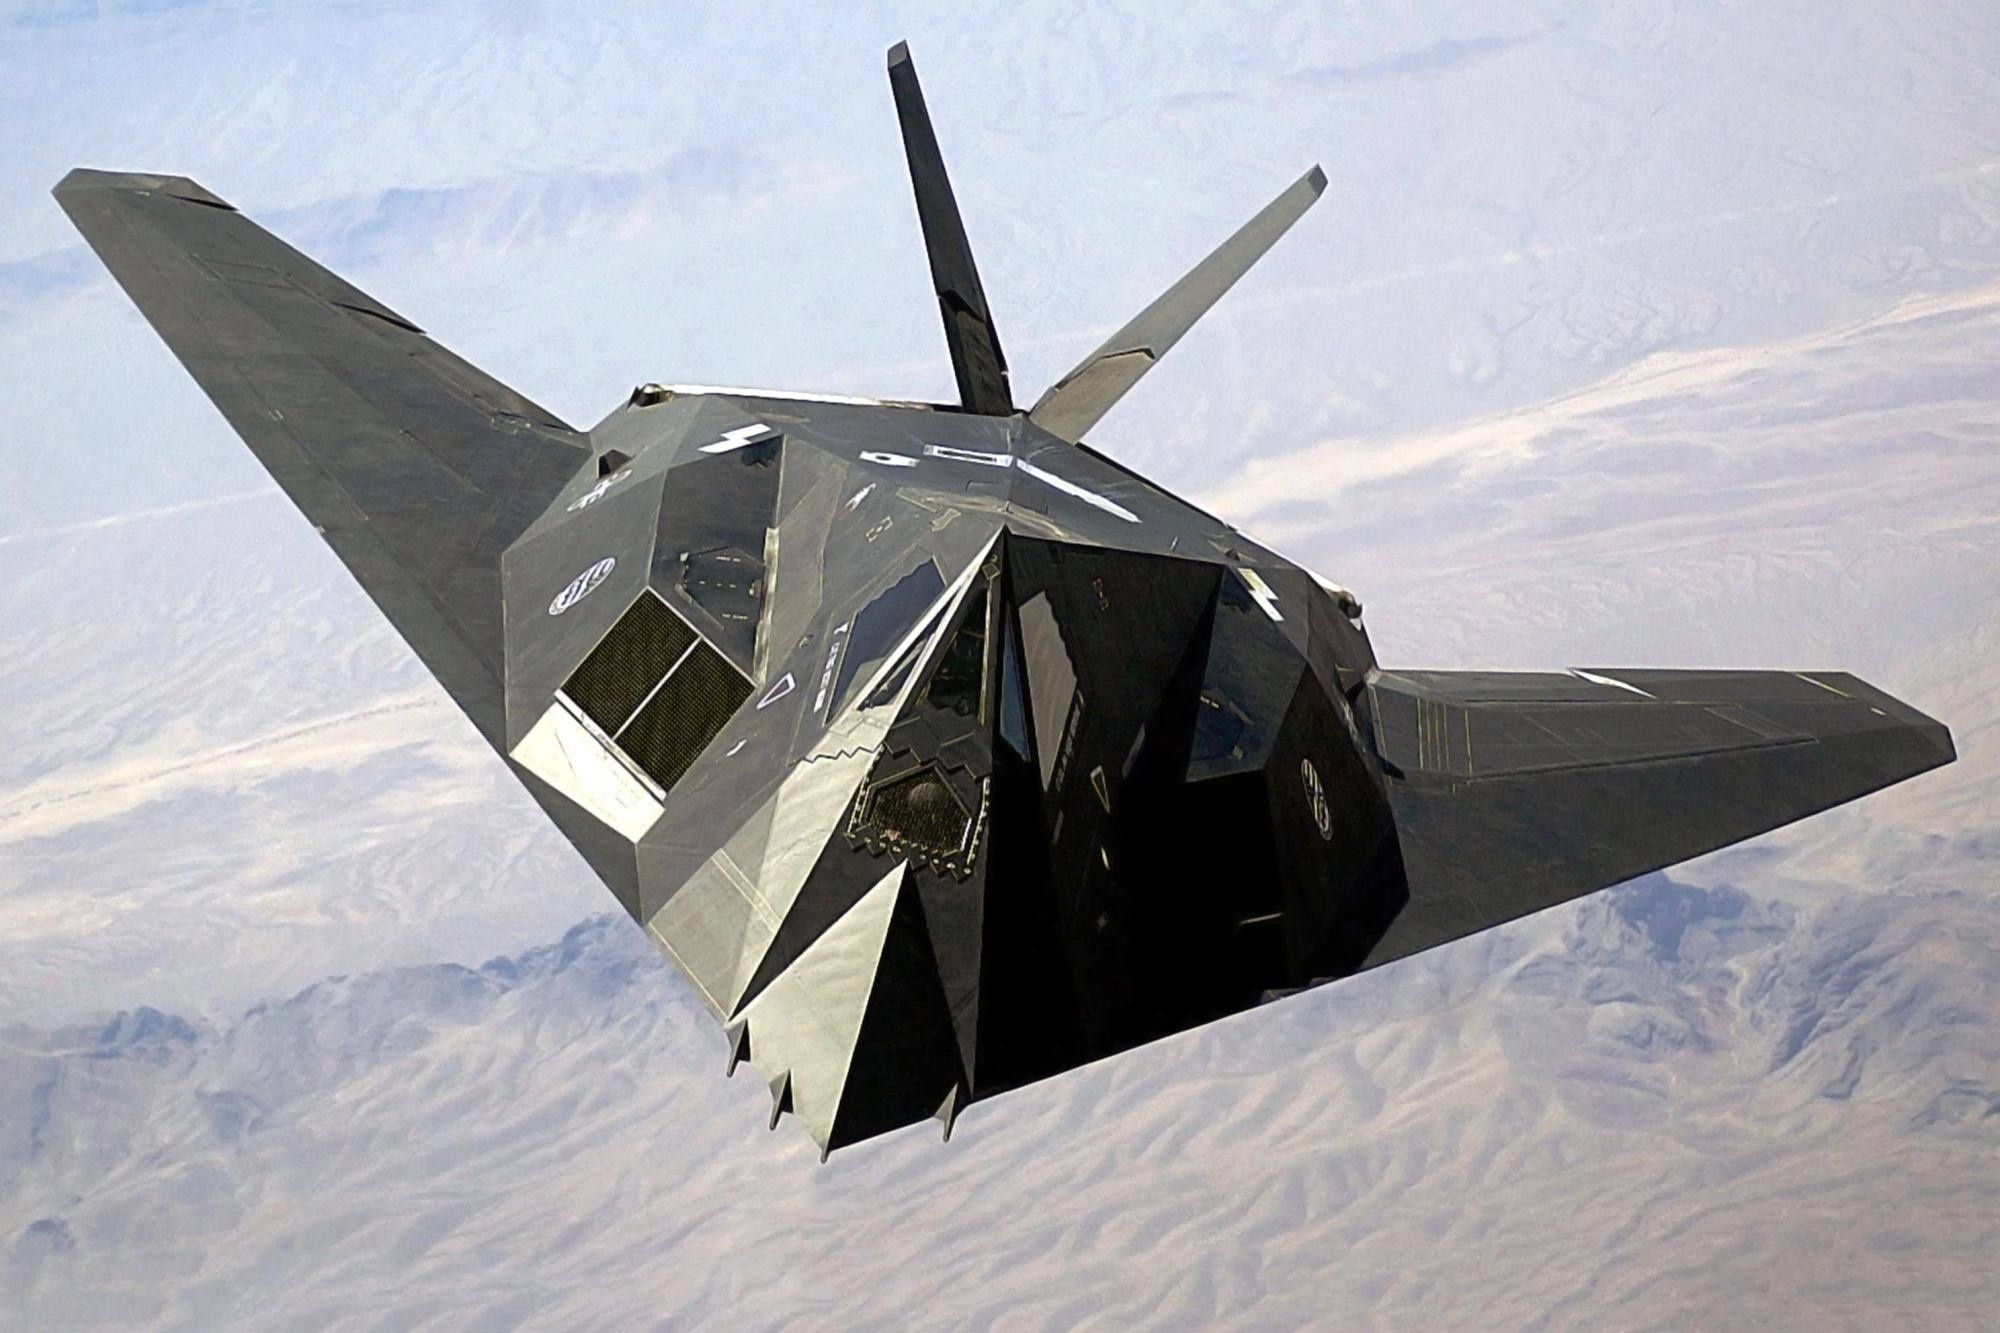airplane: (46, 33, 1966, 1166)
